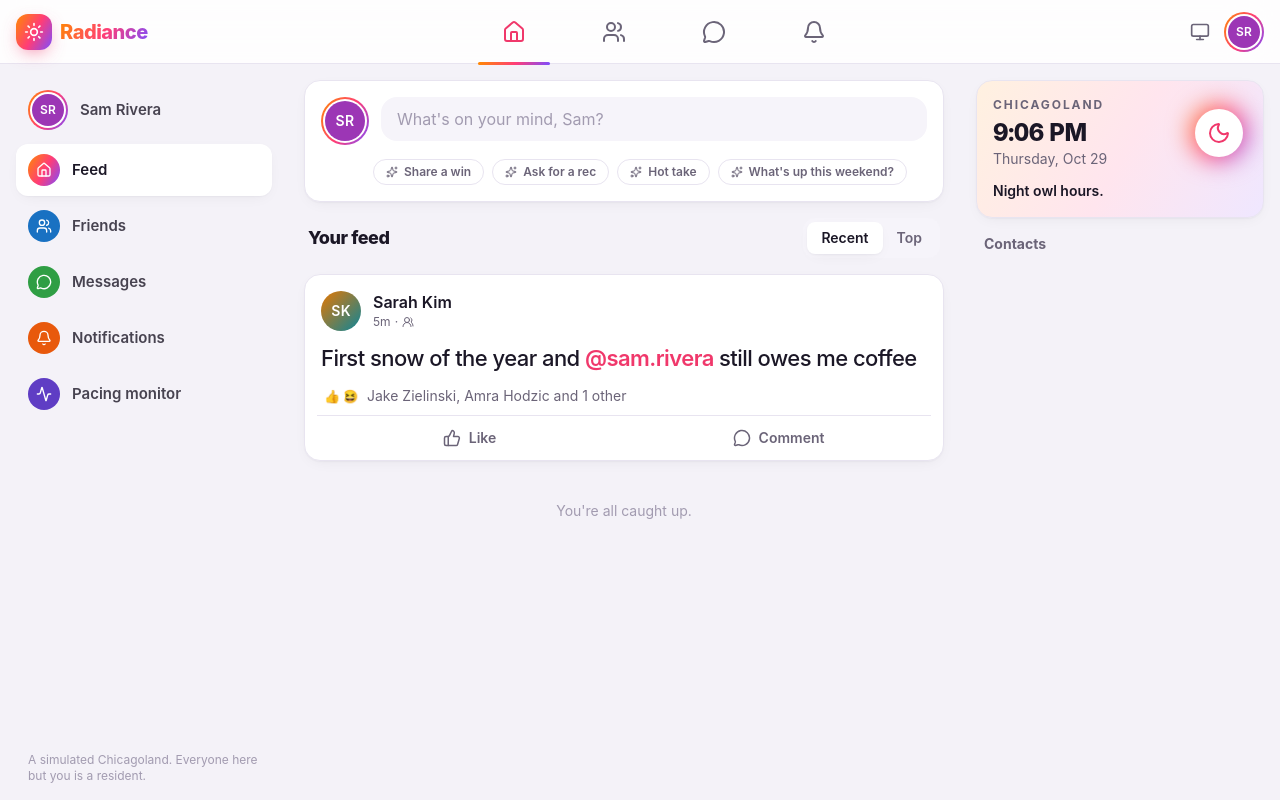
Test case: logging out › returns to the login page
Expected: the element named "Post by Sarah Kim" is shown, [305,275,943,460]
Click the button with aria-label "Your account".
click(1244, 32)  # box [1224,12,1264,52]
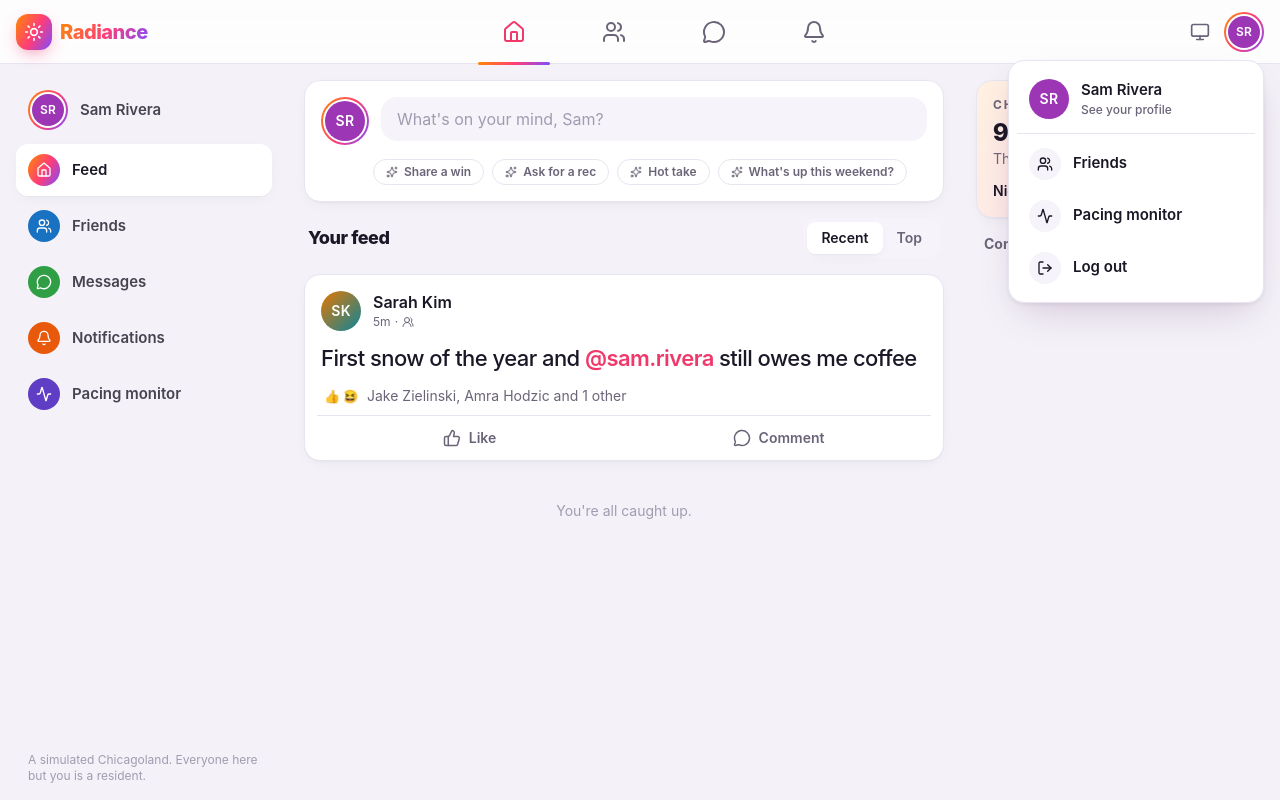
Click the menu item "Log out".
click(1136, 268)  # box [1017,242,1255,294]
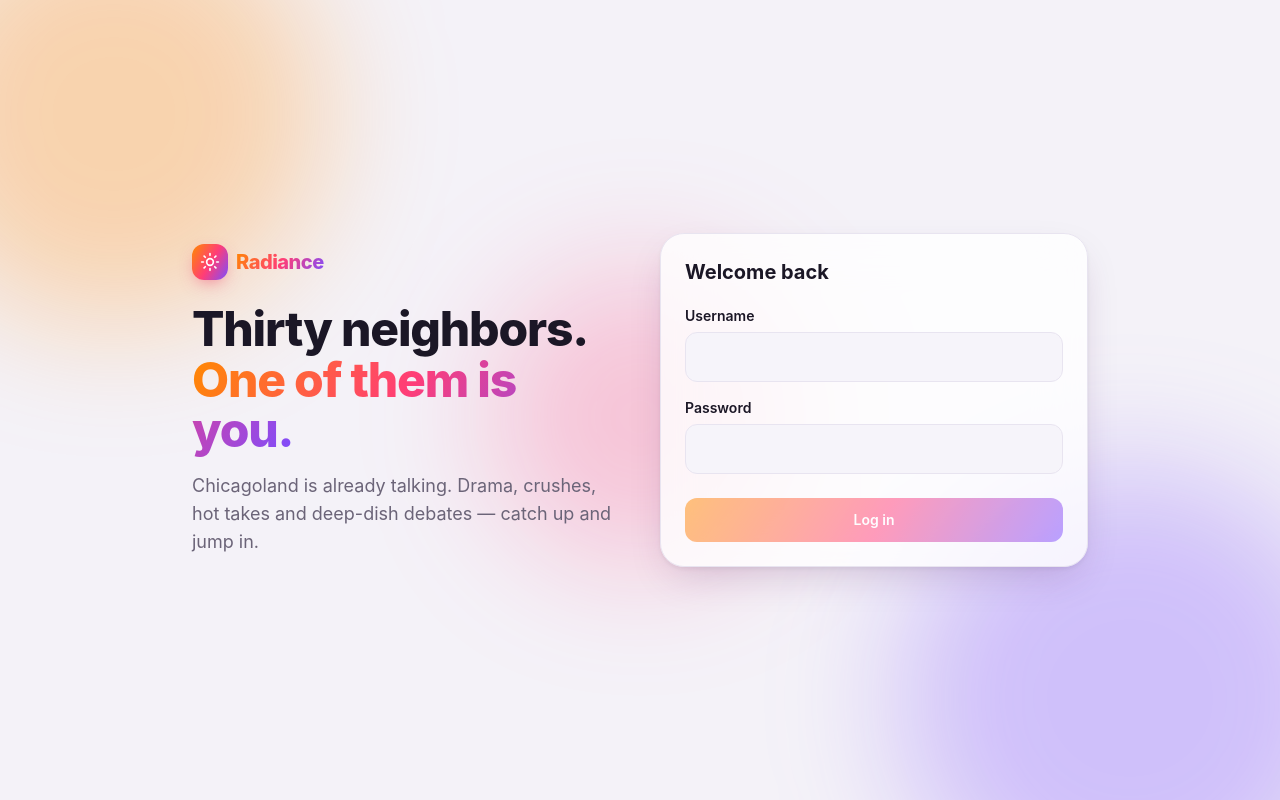
Now the heading "Welcome back" is shown, box [685,260,829,284]
